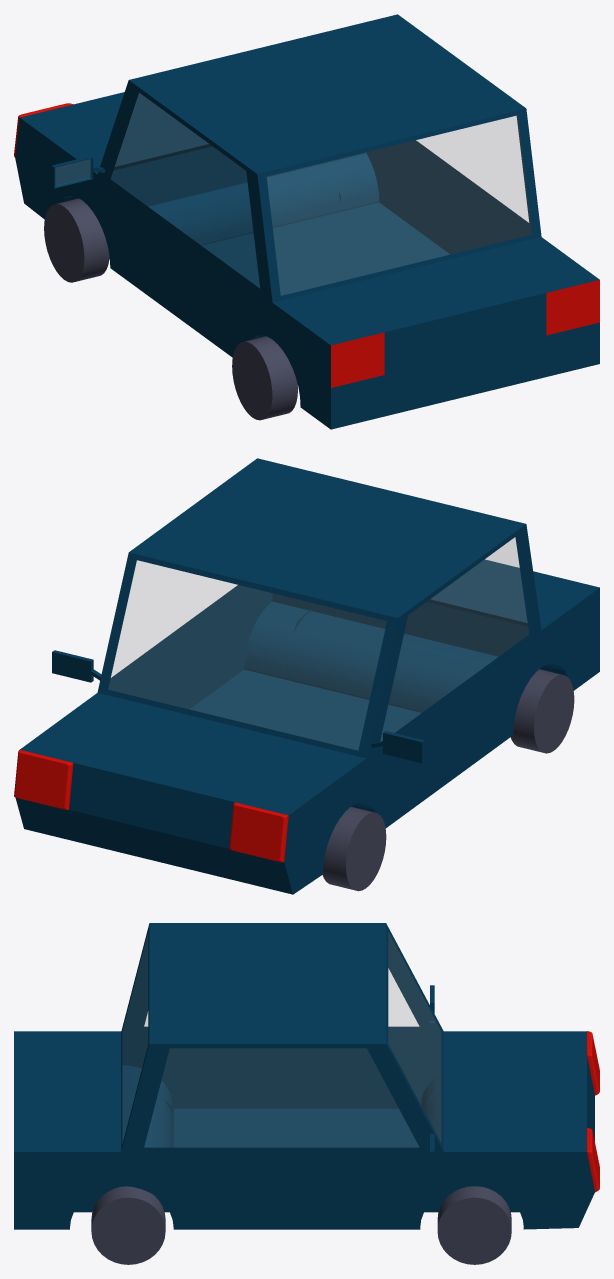
The picture shows the model from 3 angles, top to bottom: view 1: azimuth 30°, elevation 25°; view 2: azimuth 150°, elevation 25°; view 3: azimuth 270°, elevation 25°; orthographic projection. The views are drawn at different scales.
Visible parts, largest first — view 1: Cube.002, Back Left, Front Left; view 2: Cube.002, Front Left, Back Left; view 3: Cube.002, Front Right, Back Right.
Part boxes in pixels (x1,y1,x2,y2): Cube.002: (14,14,599,429); Back Left: (232,336,297,420); Front Left: (44,198,109,282); Cube.002: (14,458,599,894); Front Left: (322,807,386,891); Back Left: (510,669,574,753); Cube.002: (14,923,599,1229); Front Right: (437,1186,511,1264); Back Right: (91,1186,165,1264).
Size of the model in its own units: 3.79 by 2.26 by 5.65.
